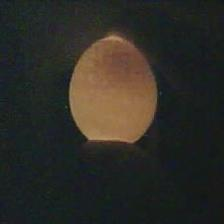infertile: (67, 34, 159, 148)
